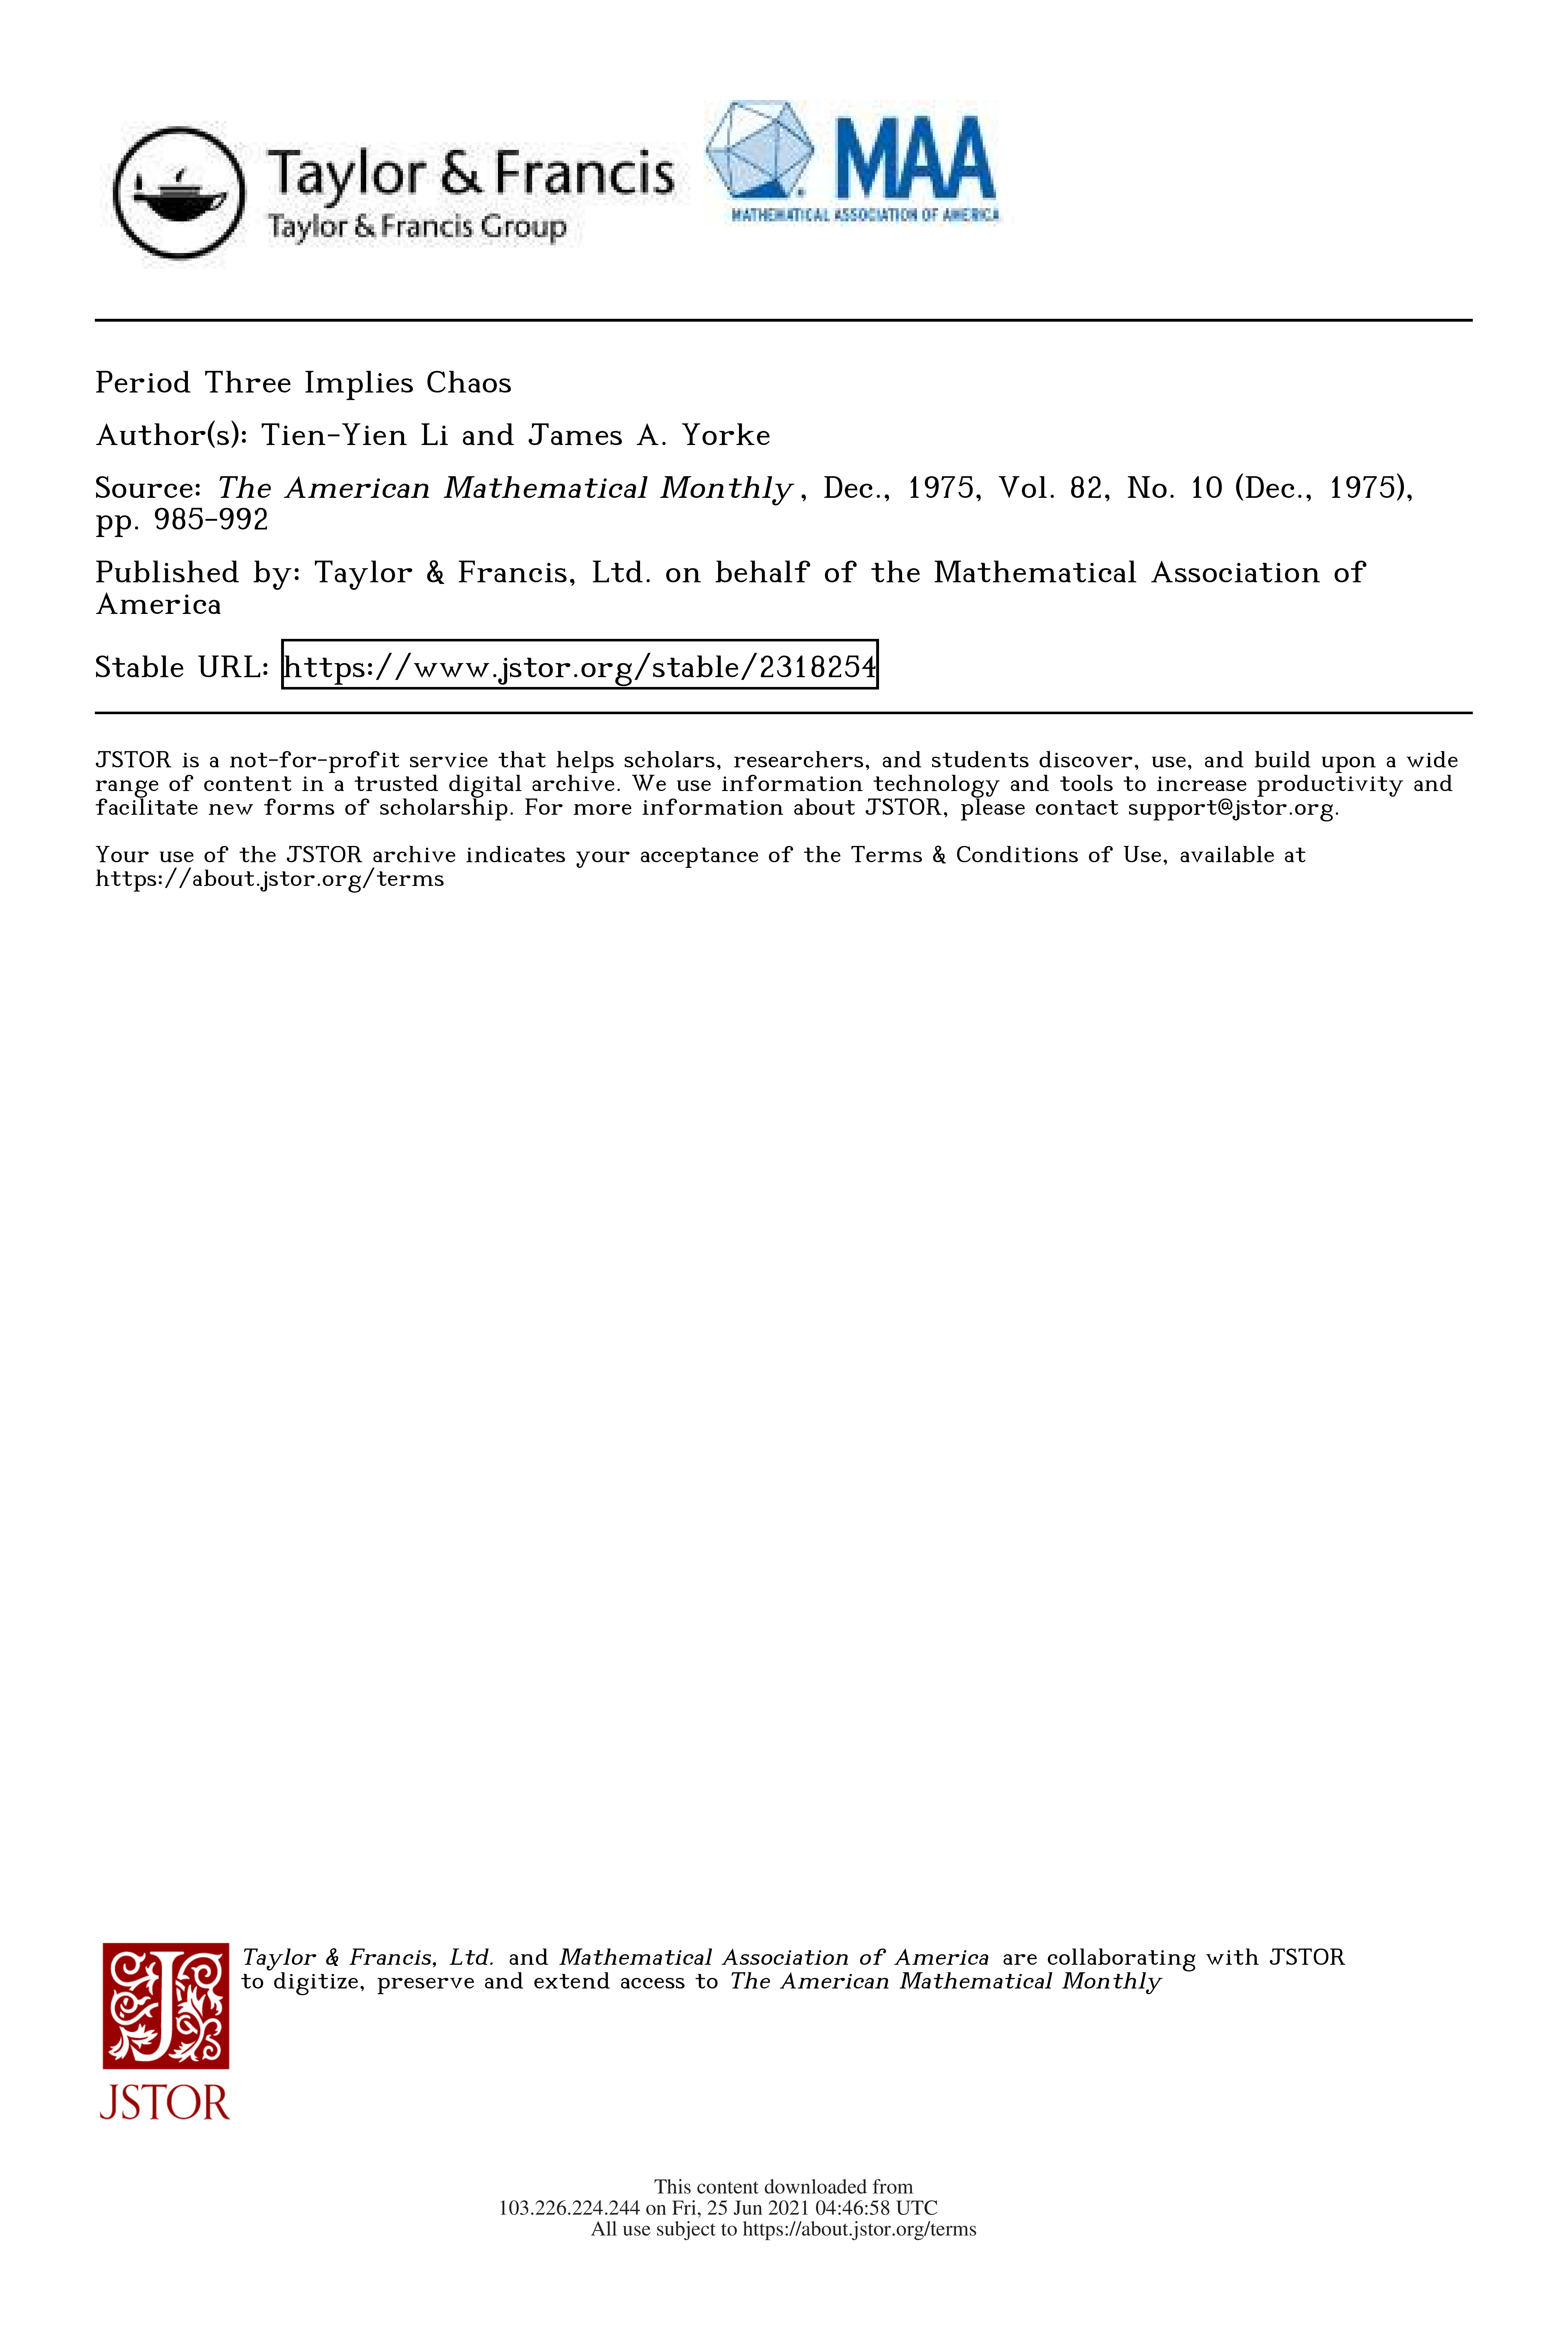maths: (149, 481, 166, 499), (434, 490, 448, 495)
